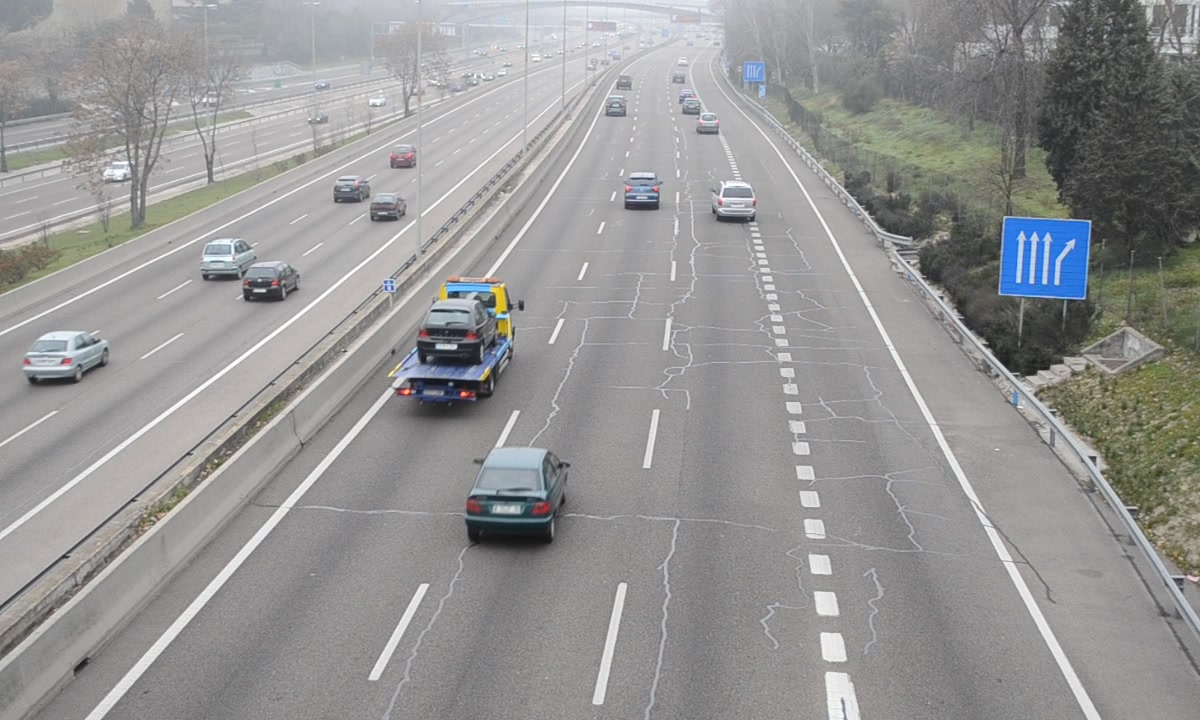car: (465, 448, 567, 534), (713, 180, 758, 223), (623, 172, 660, 206), (695, 111, 719, 136), (604, 95, 628, 117)
small-truck: (388, 279, 513, 402)
